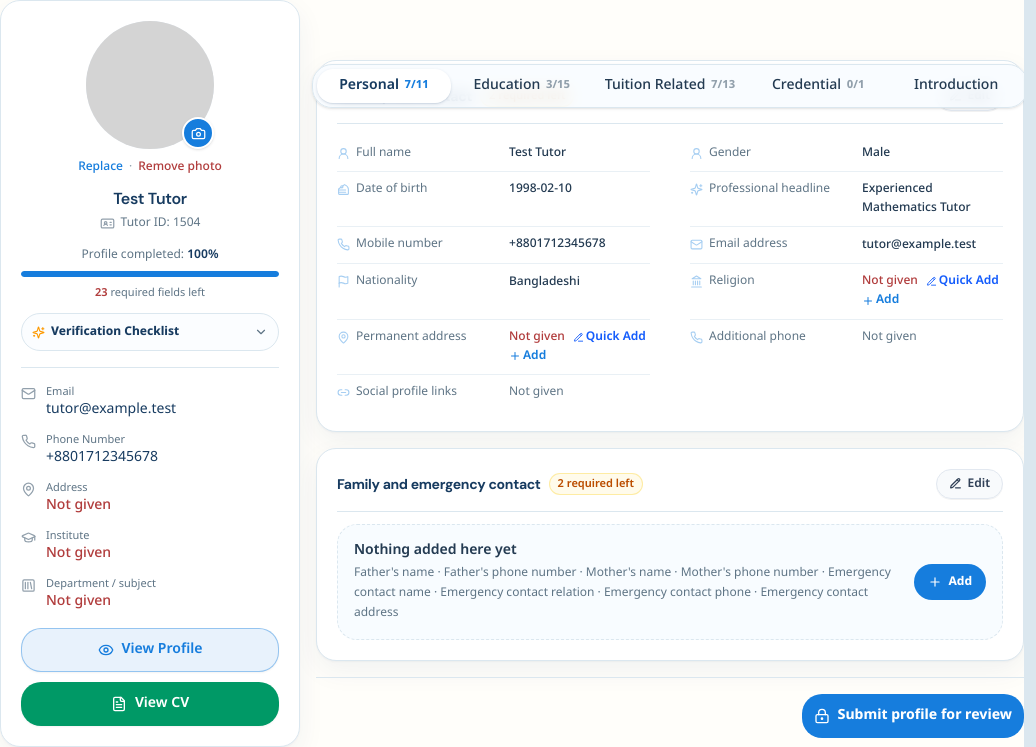
Test case: TutorProfileWorkspace FP-02 feedback › shows only the selected section's read-out and switches on tab click
Expected: the text "Education level" is not shown
What coordinates should you click on to do the following:
click the tab "Education 3/15"
I would click on:
 (522, 86)
Its box is [455,69,589,103].
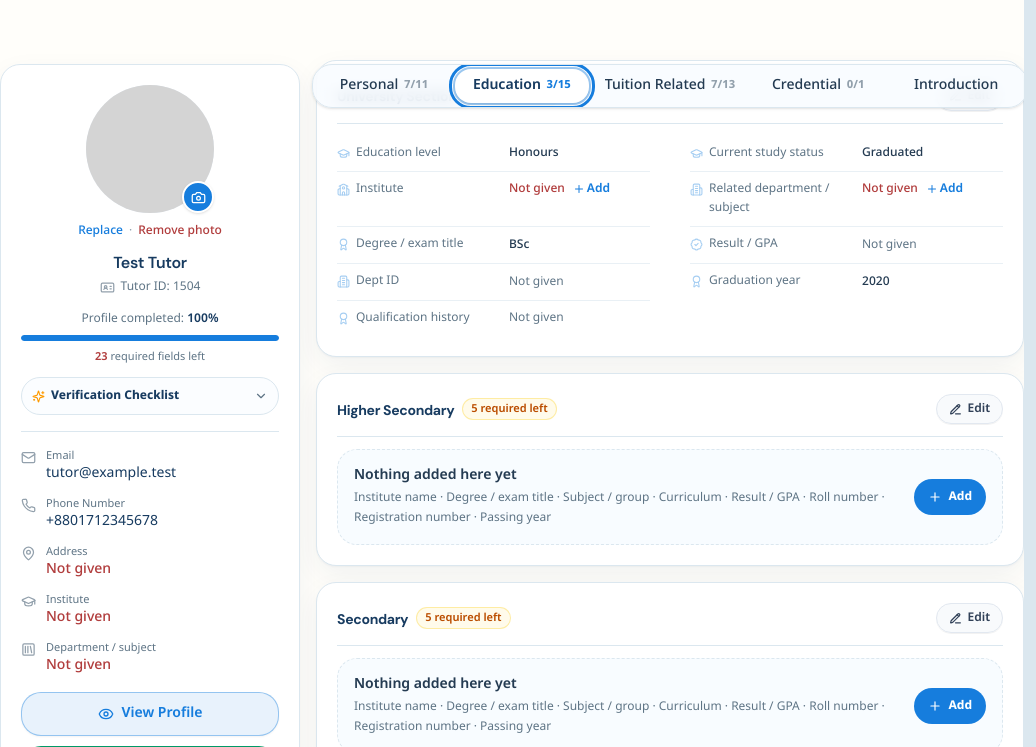
Result: the text "Education level" is shown at [337,145,441,161]
